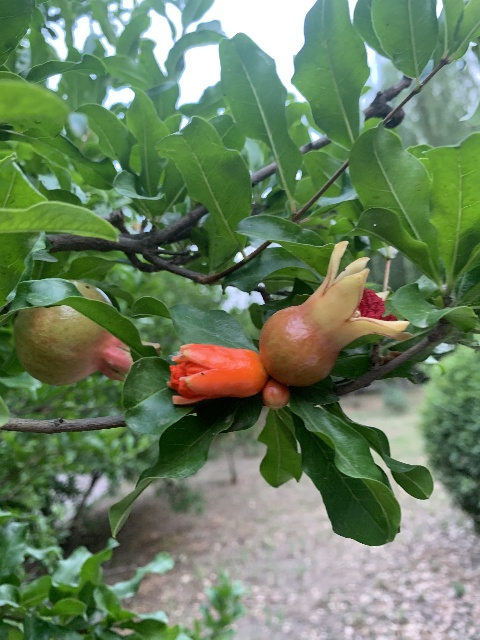bud: (261, 380, 289, 409)
early-fruit: (259, 240, 411, 386)
flower: (167, 343, 266, 403)
mid-growth: (13, 280, 160, 386)
